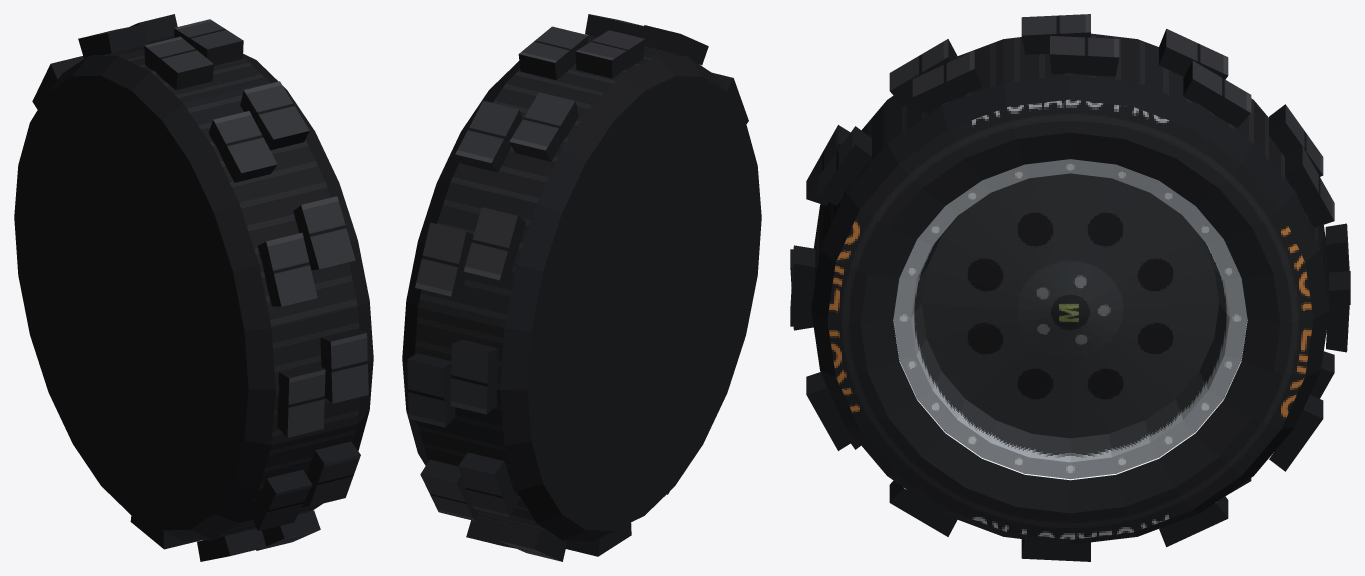
Rendered from mandacaru_trava_15_com_tropeiro_atolado_pro.glb.
3 renders of one model, left to right at view 1: azimuth 30°, elevation 25°; view 2: azimuth 150°, elevation 25°; view 3: azimuth 270°, elevation 25°, orthographic. The views are drawn at different scales.
Visible parts, largest first — view 1: mandacaru_trava_15_com_tropeiro_atolado_pro; view 2: mandacaru_trava_15_com_tropeiro_atolado_pro; view 3: mandacaru_trava_15_com_tropeiro_atolado_pro.
Part boxes in pixels (x1,y1,x2,y2): mandacaru_trava_15_com_tropeiro_atolado_pro: (14,14,373,561); mandacaru_trava_15_com_tropeiro_atolado_pro: (402,14,761,561); mandacaru_trava_15_com_tropeiro_atolado_pro: (790,14,1350,561).
Size of the model in its own units: 0.1901 by 0.6747 by 0.6747.
2 materials, 2 textured.
